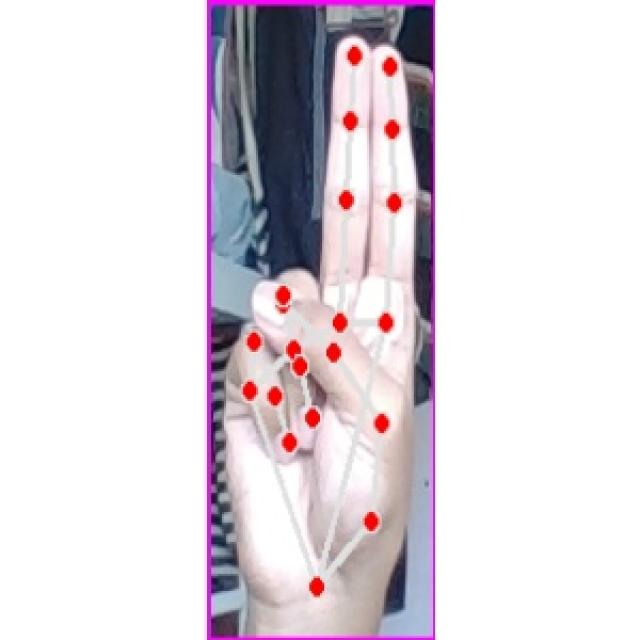U: (227, 25, 418, 619)
